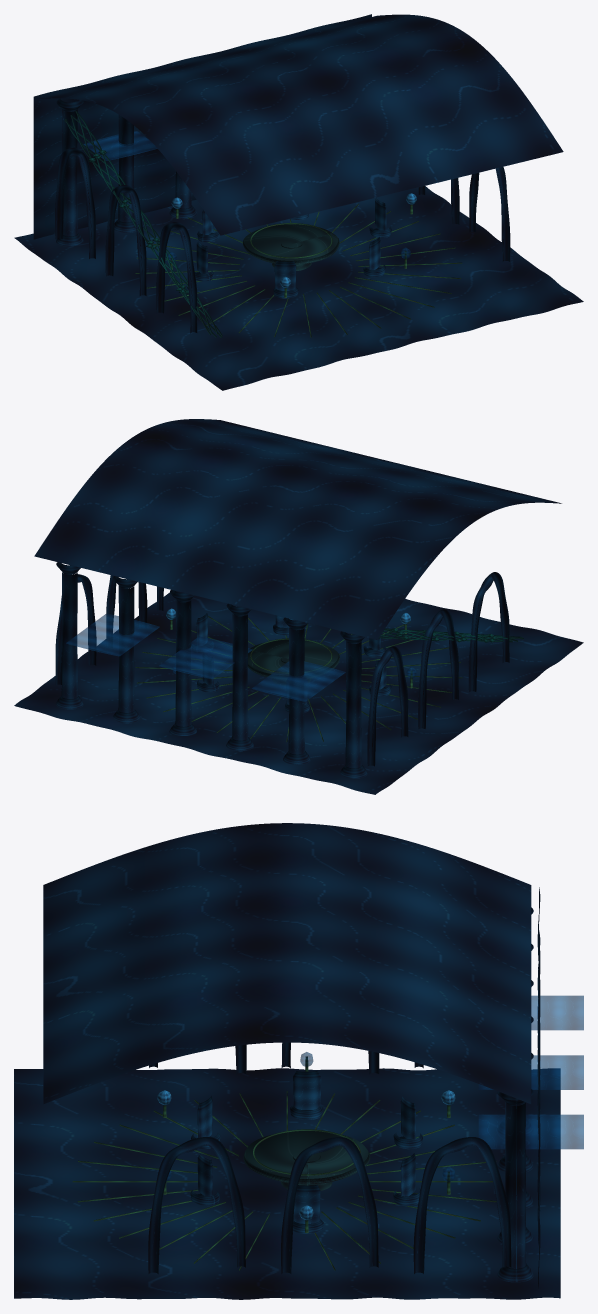
The model's file is council-chamber-hero-v2.glb.
3 renders of one model, top to bottom at view 1: azimuth 30°, elevation 25°; view 2: azimuth 150°, elevation 25°; view 3: azimuth 270°, elevation 25°, orthographic. The views are drawn at different scales.
Visible parts, largest first — view 1: council-vault, council-sculpted-floor, council-back-relief, council-table-top, council-left-arch-1, council-left-arch-0, council-left-arch-2, council-column-0-shaft, council-column-1-shaft, council-right-arch-2, council-window-0, council-chair-back-2; view 2: council-vault, council-sculpted-floor, council-table-top, council-column-0-shaft, council-column-4-shaft, council-column-2-shaft, council-column-3-shaft, council-window-0, council-window-1, council-column-5-shaft, council-window-2, council-column-1-shaft (+5 smaller); view 3: council-vault, council-sculpted-floor, council-table-top, council-right-arch-0, council-right-arch-1, council-right-arch-2, council-column-5-shaft, council-window-2, council-window-1, council-window-0, council-back-relief, council-chair-back-3 (+1 smaller).
Boxes of the visible parts, bbox=[...] form: council-vault: bbox=[35, 14, 563, 235]; council-sculpted-floor: bbox=[14, 186, 583, 390]; council-back-relief: bbox=[33, 14, 371, 239]; council-table-top: bbox=[243, 224, 339, 264]; council-left-arch-1: bbox=[105, 185, 146, 295]; council-left-arch-0: bbox=[55, 147, 95, 258]; council-left-arch-2: bbox=[156, 222, 197, 333]; council-column-0-shaft: bbox=[62, 109, 77, 236]; council-column-1-shaft: bbox=[118, 115, 134, 222]; council-right-arch-2: bbox=[469, 167, 510, 261]; council-window-0: bbox=[83, 131, 157, 160]; council-chair-back-2: bbox=[274, 261, 296, 290]; council-vault: bbox=[34, 419, 561, 639]; council-sculpted-floor: bbox=[14, 591, 583, 794]; council-table-top: bbox=[247, 639, 339, 679]; council-column-0-shaft: bbox=[345, 641, 361, 768]; council-column-4-shaft: bbox=[118, 586, 134, 712]; council-column-2-shaft: bbox=[232, 614, 248, 740]; council-column-3-shaft: bbox=[175, 600, 191, 726]; council-window-0: bbox=[252, 661, 345, 701]; council-window-1: bbox=[159, 636, 252, 678]; council-column-5-shaft: bbox=[61, 572, 77, 698]; council-window-2: bbox=[66, 613, 159, 656]; council-column-1-shaft: bbox=[288, 627, 304, 754]; council-vault: bbox=[43, 823, 531, 1104]; council-sculpted-floor: bbox=[14, 1068, 560, 1299]; council-table-top: bbox=[243, 1131, 370, 1184]; council-right-arch-0: bbox=[413, 1137, 511, 1273]; council-right-arch-1: bbox=[281, 1137, 378, 1273]; council-right-arch-2: bbox=[148, 1137, 245, 1274]; council-column-5-shaft: bbox=[505, 1102, 525, 1268]; council-window-2: bbox=[478, 1114, 583, 1149]; council-window-1: bbox=[478, 1055, 583, 1089]; council-window-0: bbox=[531, 995, 583, 1030]; council-back-relief: bbox=[537, 887, 540, 1288]; council-chair-back-3: bbox=[293, 1070, 321, 1109].
Size of the model in its own units: 14 by 7.16 by 14.6.
Materials: 7 (7 with a texture image).
